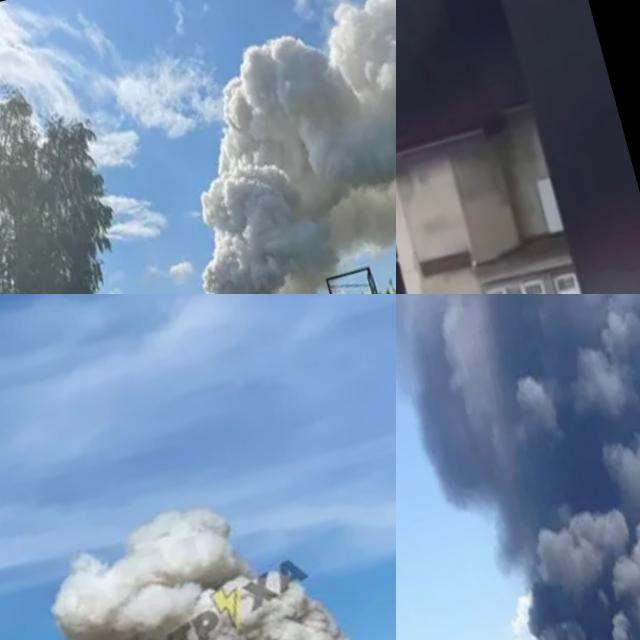smoke: (87, 0, 396, 294), (396, 294, 640, 640), (34, 471, 385, 640), (396, 0, 571, 294)
